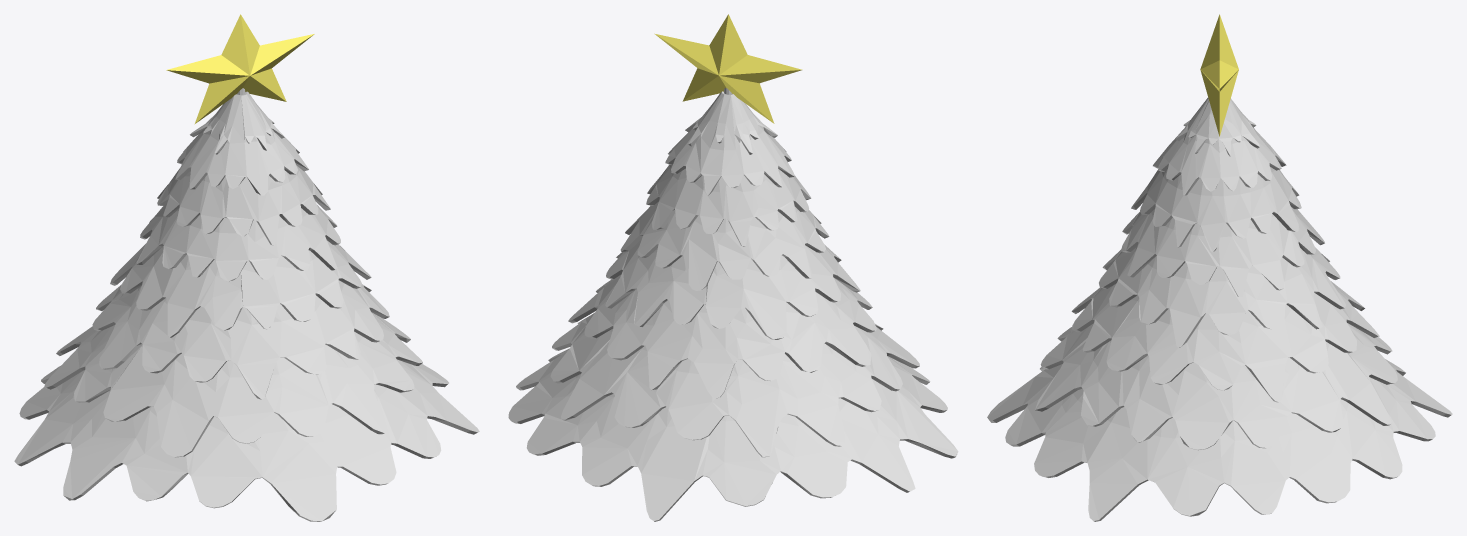
File: sh-bsby-arbolito.glb
3 views of the same model, side by side, from view 1: azimuth 30°, elevation 25°; view 2: azimuth 150°, elevation 25°; view 3: azimuth 270°, elevation 25° (orthographic).
Visible parts, largest first — view 1: Circle.001, Circle.002; view 2: Circle.001, Circle.002; view 3: Circle.001, Circle.002.
Boxes of the visible parts, x1,y1,x2,y2 form: Circle.001: (14, 91, 479, 521); Circle.002: (166, 14, 314, 124); Circle.001: (508, 91, 958, 521); Circle.002: (654, 14, 802, 123); Circle.001: (987, 97, 1452, 521); Circle.002: (1200, 14, 1238, 136).
Bounding box in the file's own units: 0.9967 × 1 × 1.
